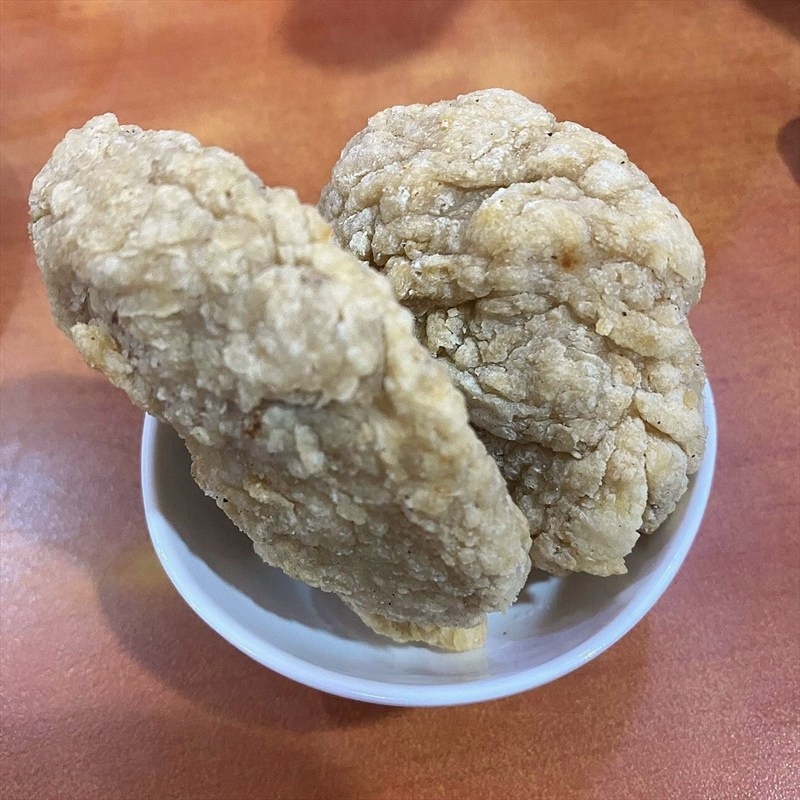Pempek: (122, 99, 713, 721)
